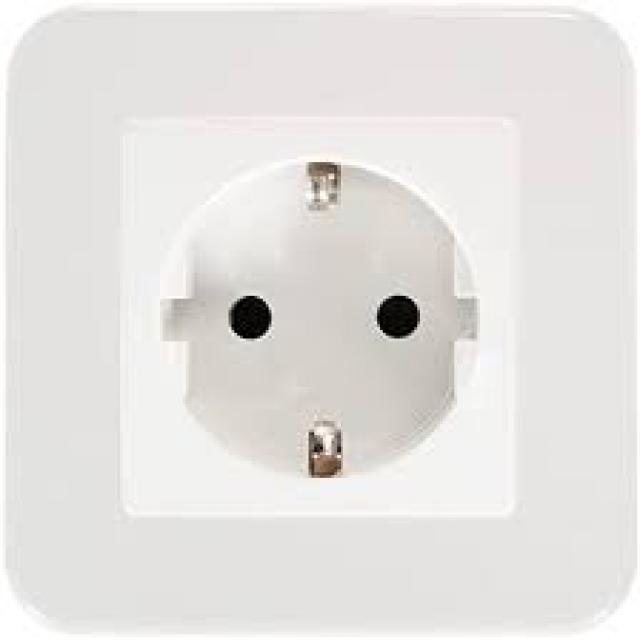typeb: (0, 2, 630, 640)
